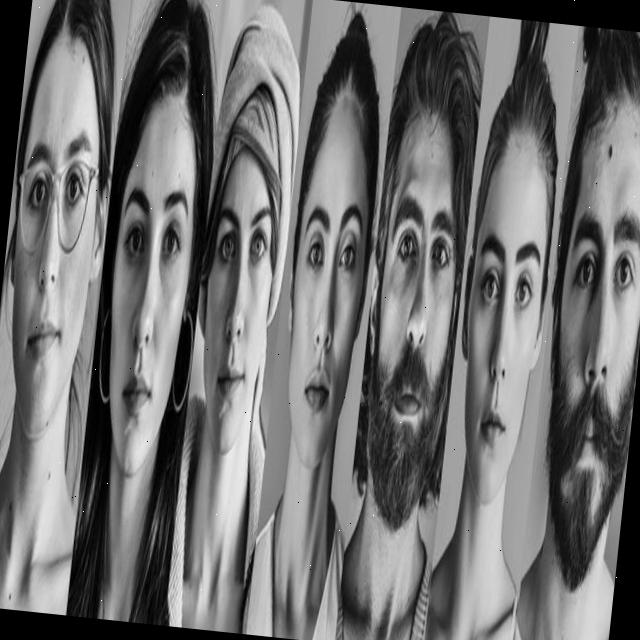Neutral: (531, 113, 640, 593), (356, 107, 472, 534), (94, 102, 205, 479), (448, 140, 558, 507), (276, 96, 382, 470)
